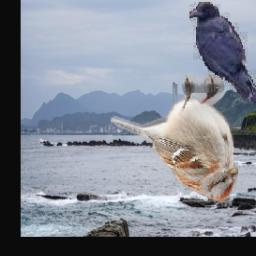Crow: (190, 2, 256, 104)
Sparrow: (111, 75, 238, 201)
